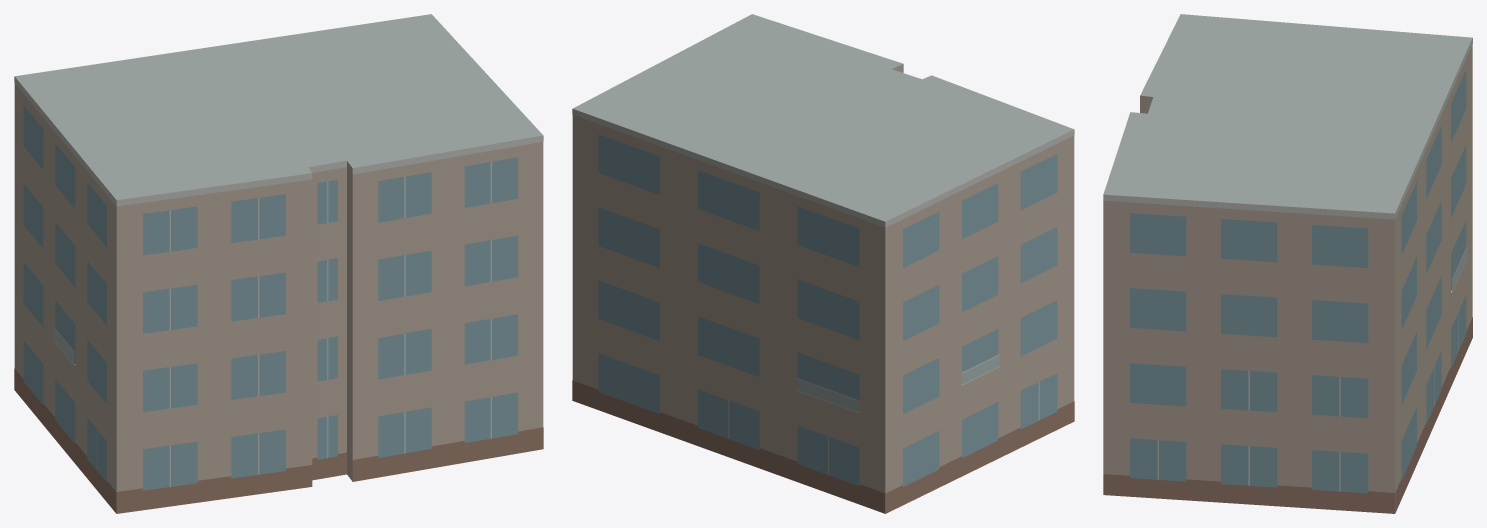
The model's file is survey-upis-32964711.glb.
3 views of the same model, side by side, from view 1: azimuth 30°, elevation 25°; view 2: azimuth 150°, elevation 25°; view 3: azimuth 270°, elevation 25° (orthographic). The views are drawn at different scales.
Visible parts, largest first — view 1: survey-upis-32964711.tmp; view 2: survey-upis-32964711.tmp; view 3: survey-upis-32964711.tmp.
Boxes of the visible parts, <box> form: survey-upis-32964711.tmp: <box>14,14,543,513</box>; survey-upis-32964711.tmp: <box>572,14,1074,513</box>; survey-upis-32964711.tmp: <box>1103,14,1472,513</box>.
Bounding box in the file's own units: 17.25 × 12.1 × 13.5.
